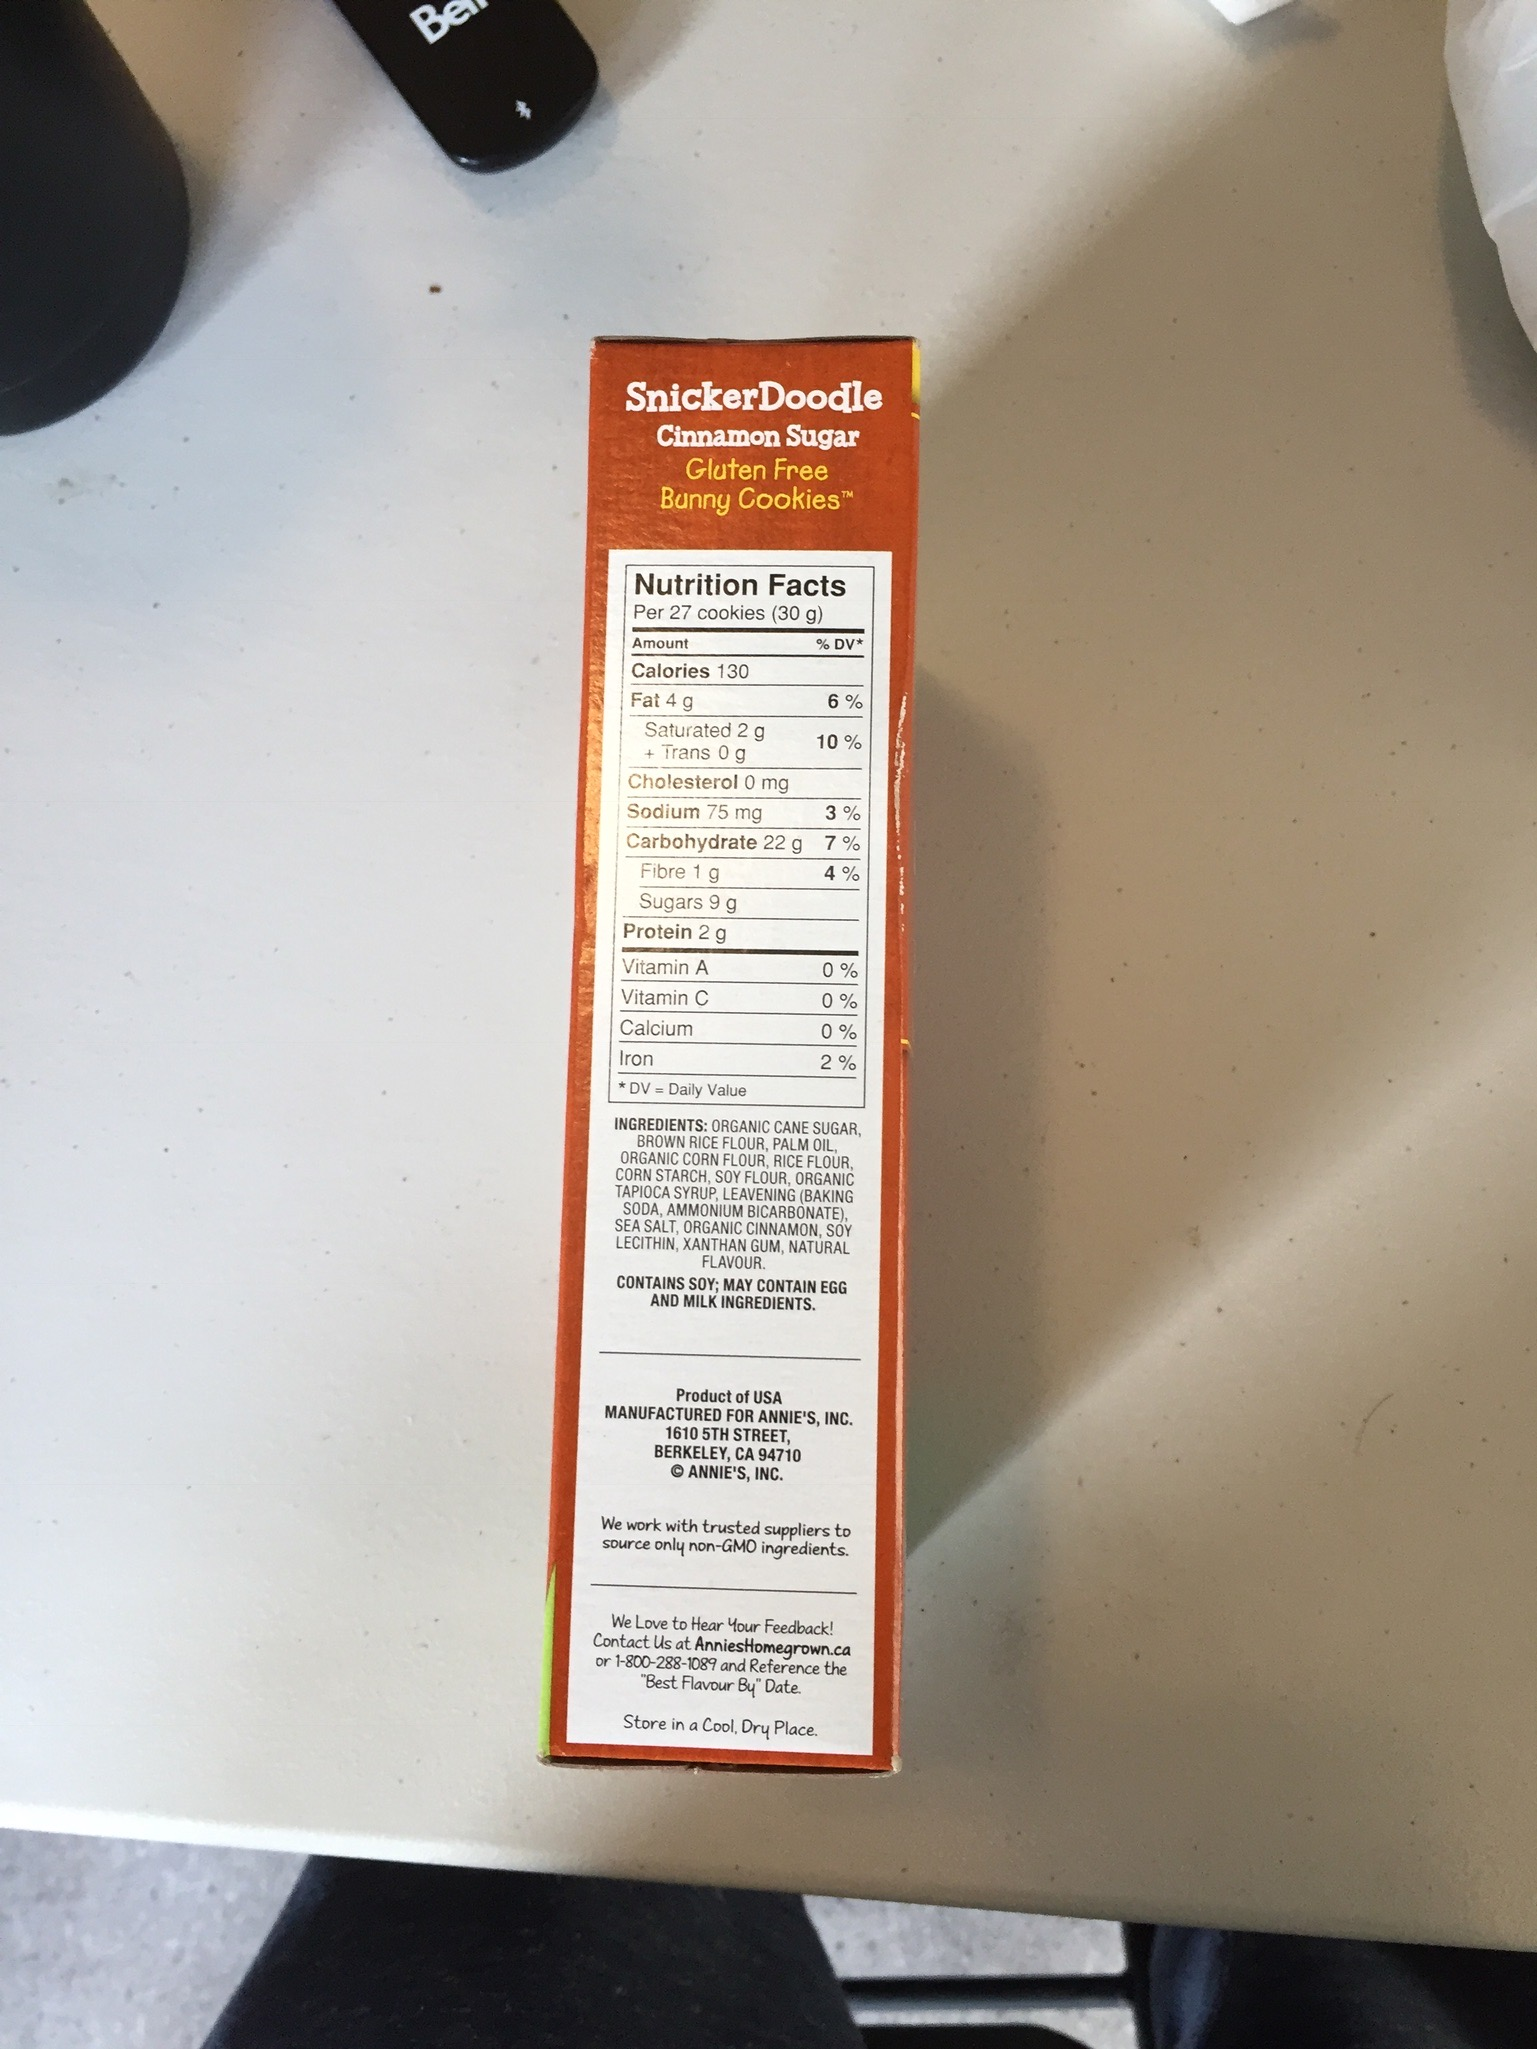annies_snickerdoodle_cinnamon_sugar: (593, 344, 877, 1770)
